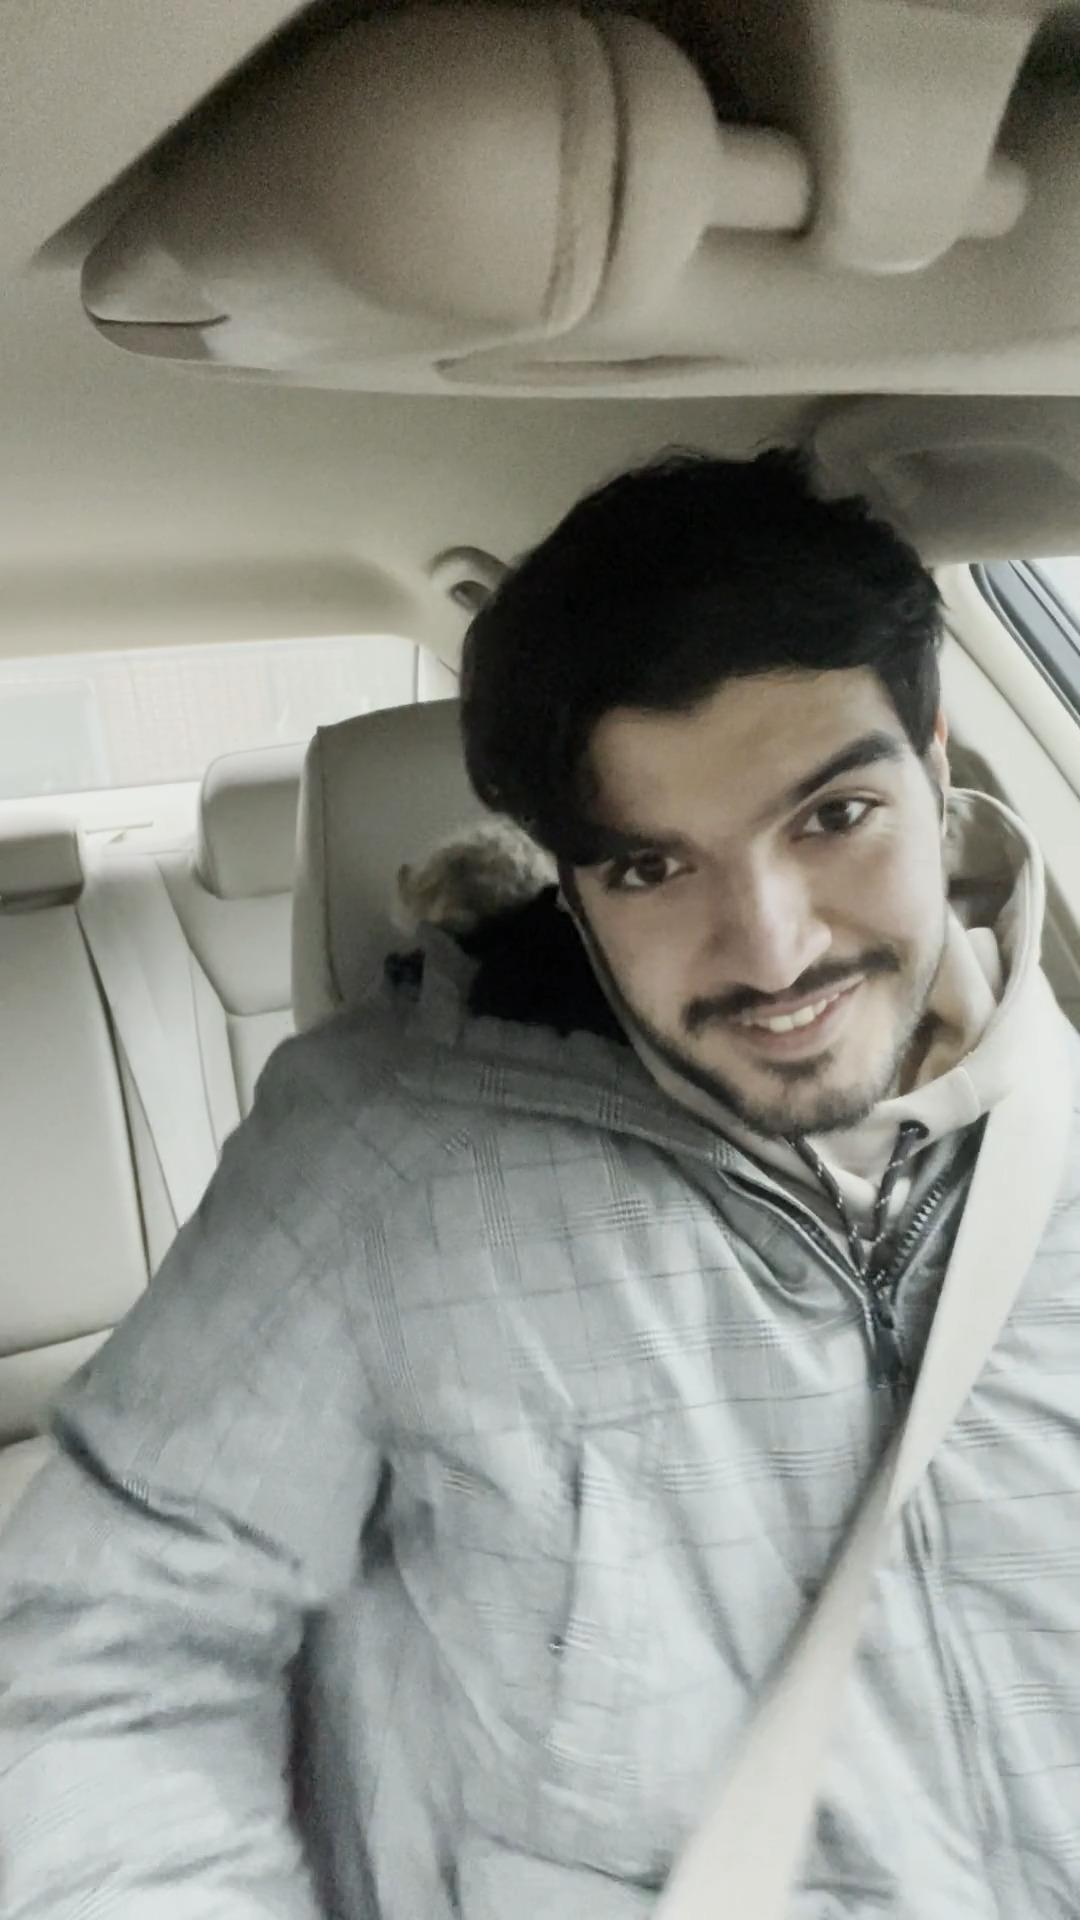seatbelt: (400, 1015, 1080, 1920)
